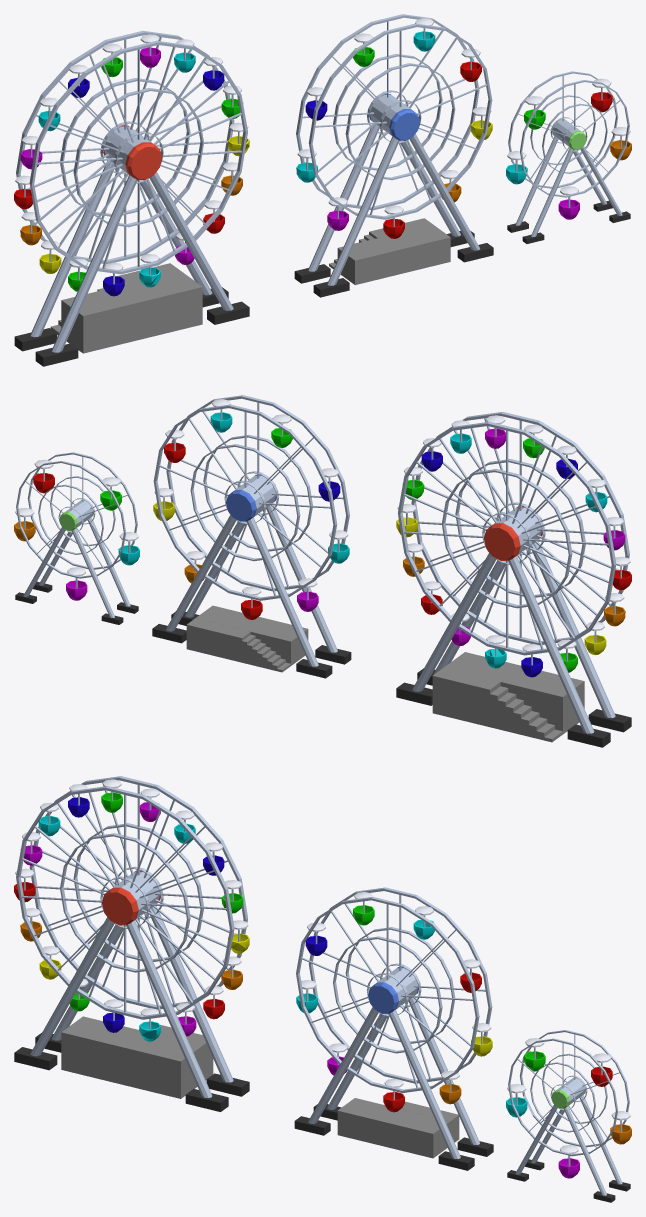
File: ferris_wheel.fbx
3 views of the same model, one above another, from view 1: azimuth 30°, elevation 25°; view 2: azimuth 150°, elevation 25°; view 3: azimuth 330°, elevation 25° (orthographic).
Parts seen in each view (by area): view 1: ferris_t3, wheel_t3, ferris_t2, wheel_t2, wheel_t1, ferris_t1, cab_t1.004, cab_t2.005, cab_t3.011, cab_t2.001, cab_t2.002, cab_t3.008 (+5 smaller); view 2: ferris_t3, wheel_t3, ferris_t2, wheel_t2, wheel_t1, ferris_t1, cab_t1.004, cab_t2.005, cab_t2.001, cab_t2.002, cab_t2.006, cab_t1.002 (+6 smaller); view 3: ferris_t3, wheel_t3, ferris_t2, wheel_t2, wheel_t1, ferris_t1.
Boxes of the visible parts, x1=… form: ferris_t3: x1=14, y1=125, x2=249, y2=366; wheel_t3: x1=16, y1=30, x2=247, y2=274; ferris_t2: x1=294, y1=93, x2=493, y2=297; wheel_t2: x1=296, y1=14, x2=492, y2=219; wheel_t1: x1=508, y1=71, x2=629, y2=197; ferris_t1: x1=507, y1=119, x2=630, y2=243; cab_t1.004: x1=558, y1=186, x2=579, y2=219; cab_t2.005: x1=383, y1=205, x2=404, y2=238; cab_t3.011: x1=139, y1=254, x2=160, y2=287; cab_t2.001: x1=413, y1=18, x2=435, y2=51; cab_t2.002: x1=460, y1=48, x2=481, y2=81; cab_t3.008: x1=39, y1=240, x2=61, y2=273; ferris_t3: x1=396, y1=506, x2=631, y2=747; wheel_t3: x1=398, y1=412, x2=629, y2=655; ferris_t2: x1=152, y1=474, x2=351, y2=678; wheel_t2: x1=153, y1=395, x2=349, y2=600; wheel_t1: x1=16, y1=452, x2=137, y2=578; ferris_t1: x1=15, y1=500, x2=138, y2=624; cab_t1.004: x1=66, y1=567, x2=87, y2=600; cab_t2.005: x1=241, y1=586, x2=262, y2=619; cab_t2.001: x1=210, y1=399, x2=232, y2=432; cab_t2.002: x1=164, y1=429, x2=185, y2=462; cab_t2.006: x1=297, y1=578, x2=318, y2=611; cab_t1.002: x1=33, y1=459, x2=54, y2=493; ferris_t3: x1=14, y1=870, x2=249, y2=1111; wheel_t3: x1=16, y1=776, x2=247, y2=1019; ferris_t2: x1=294, y1=967, x2=493, y2=1170; wheel_t2: x1=296, y1=887, x2=492, y2=1092; wheel_t1: x1=508, y1=1030, x2=629, y2=1156; ferris_t1: x1=507, y1=1077, x2=630, y2=1202.
Size of the model in its own units: 702 by 317 by 71.4.
